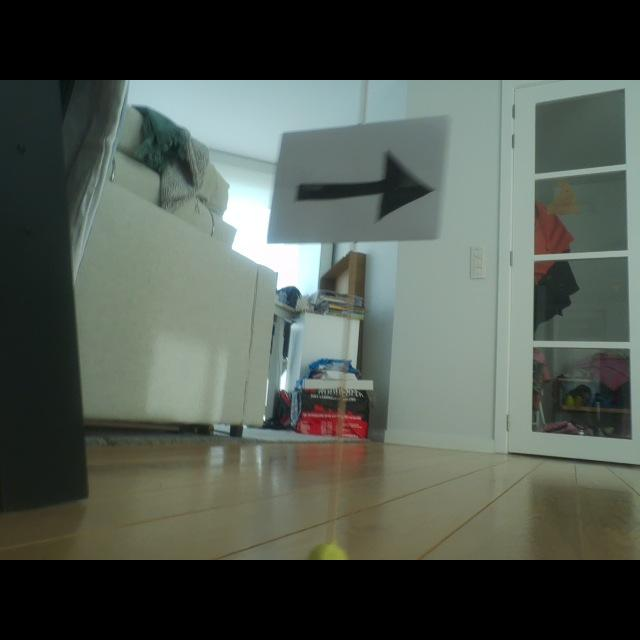jobbra_nyil: (297, 152, 433, 219)
